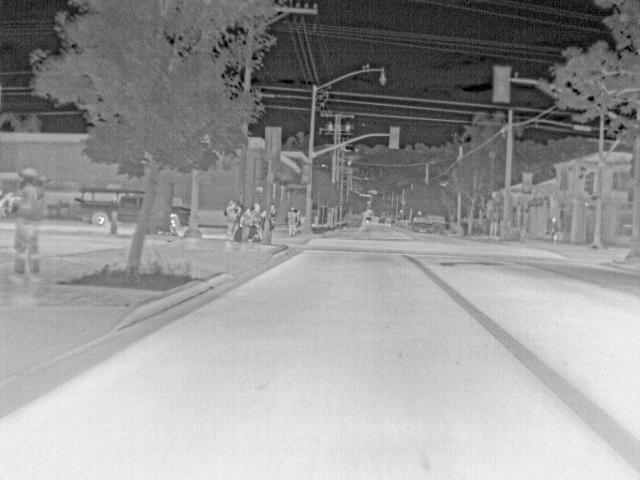car: (72, 187, 144, 227), (171, 204, 191, 230), (410, 214, 434, 232), (433, 213, 448, 233), (346, 218, 362, 228), (378, 217, 387, 225), (396, 218, 403, 228), (403, 216, 410, 225), (366, 215, 372, 222)
person: (9, 164, 48, 285), (224, 199, 239, 241), (254, 202, 267, 244), (239, 206, 254, 242), (550, 215, 562, 243), (288, 205, 298, 237), (271, 200, 278, 228), (296, 208, 302, 230)
